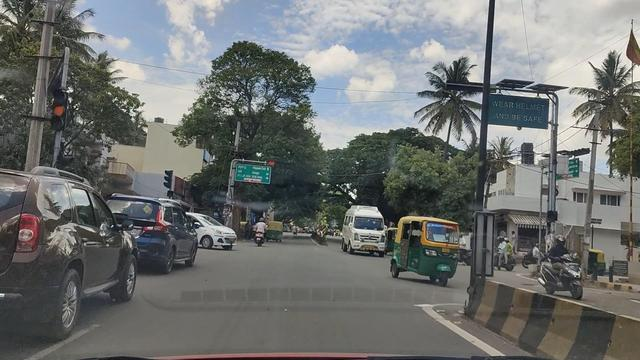LMV: (2, 164, 138, 330), (100, 193, 200, 272)
